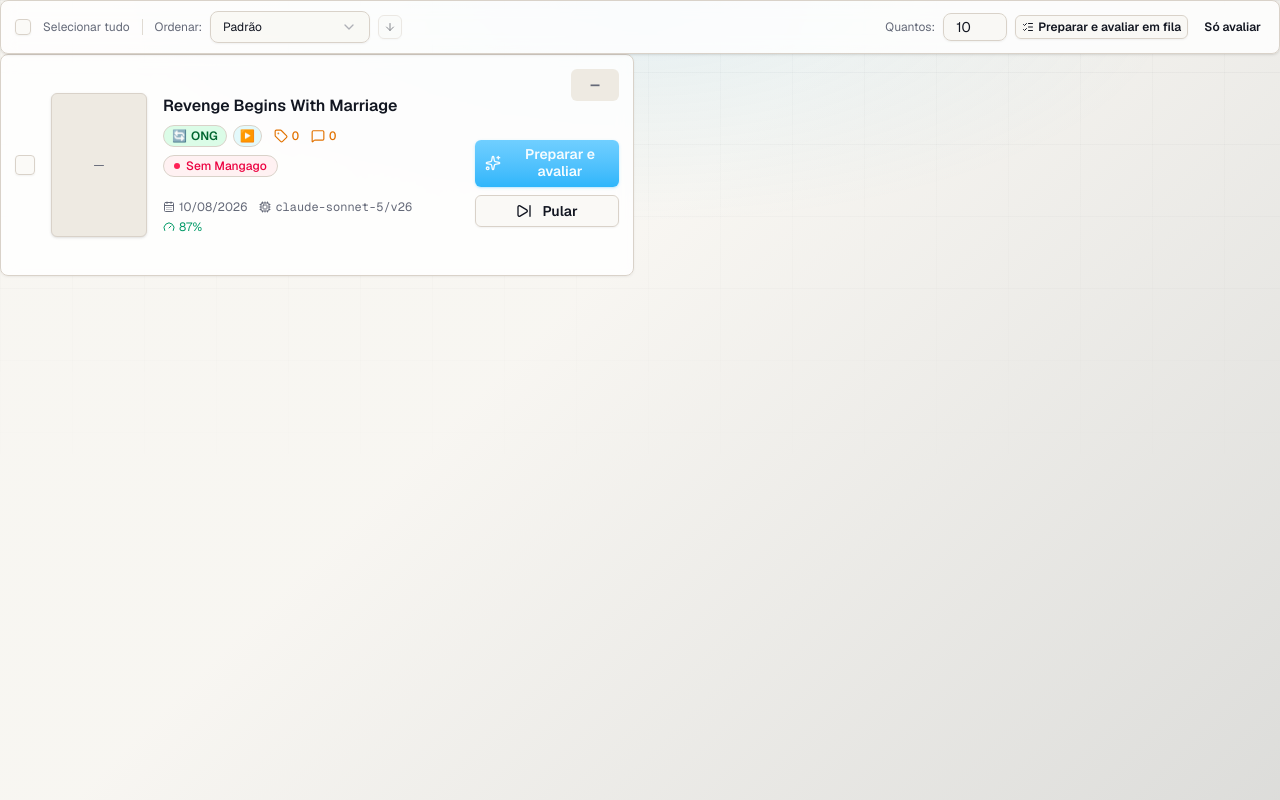
Test: obra travada por fonte › 🔴 NÃO pede autorização de gasto — o clique vai direto pro aviso
What coordinates should you click on to do the following:
click the button "Preparar e avaliar"
I would click on:
 (547, 163)
Its box is [475,140,619,186].
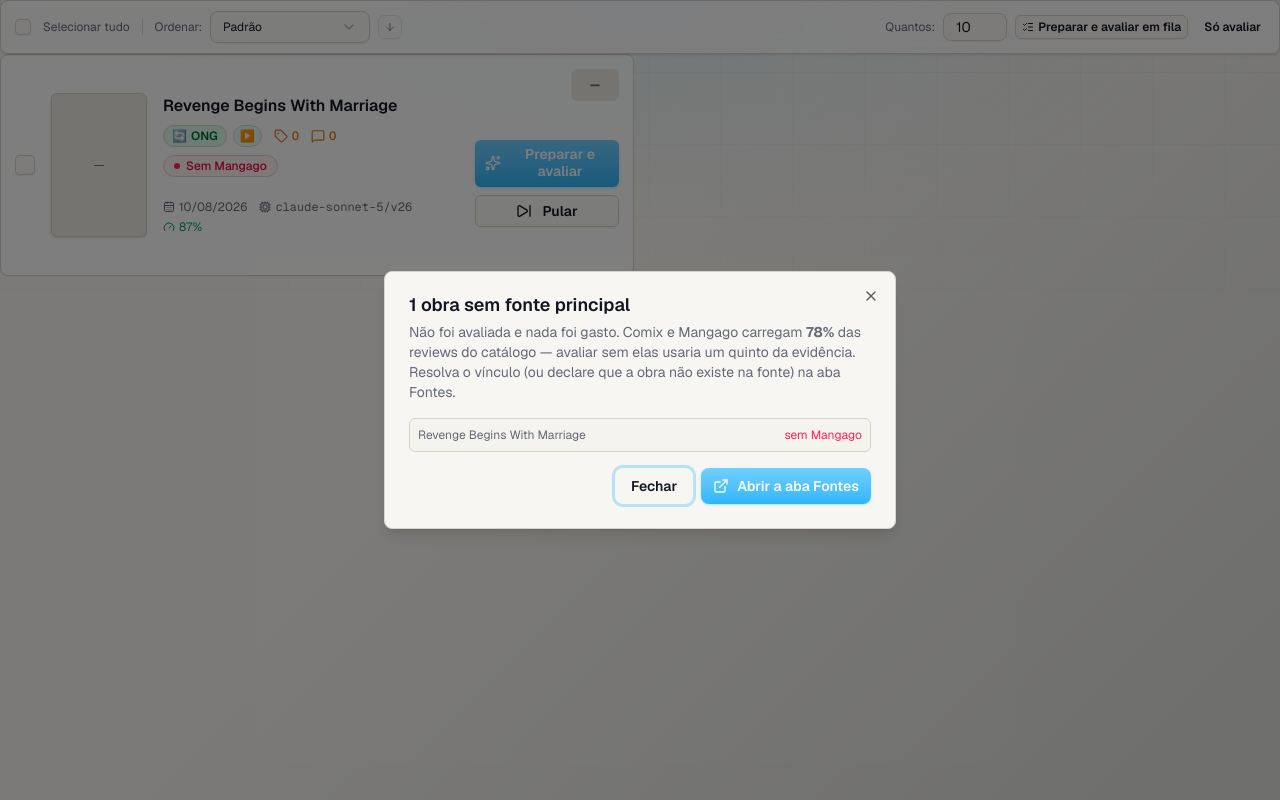
Check: the heading "1 obra sem fonte principal" is shown, box [409,293,630,316]
